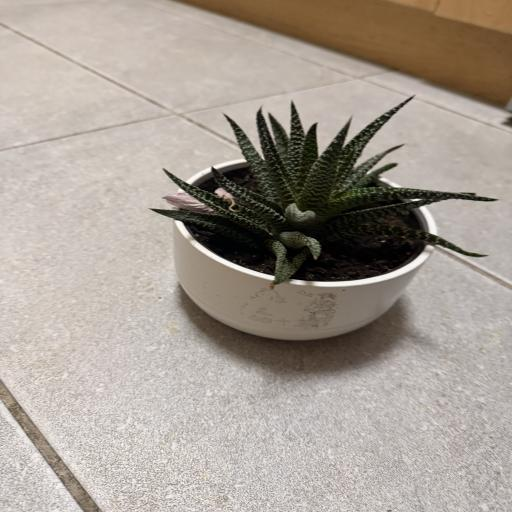Plant Pot: (170, 158, 439, 341)
